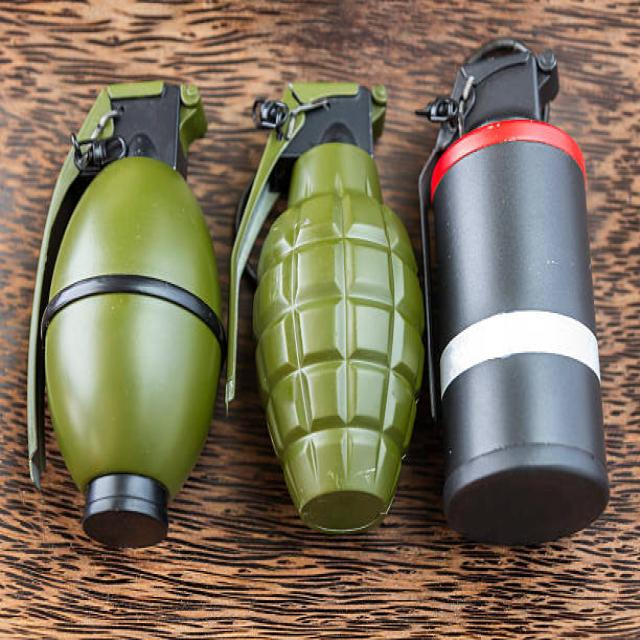grenade: (421, 33, 618, 556), (21, 70, 228, 555), (220, 78, 429, 539)
